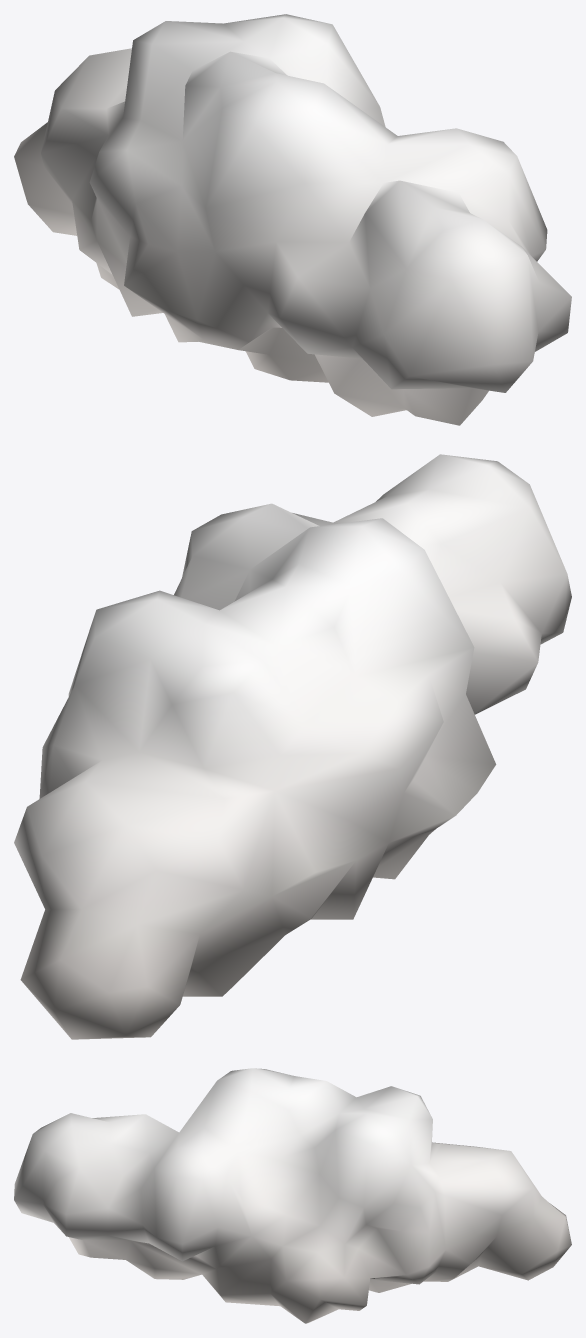
The model's file is Cloud1.fbx.
3 views of the same model, one above another, from view 1: azimuth 30°, elevation 25°; view 2: azimuth 150°, elevation 25°; view 3: azimuth 270°, elevation 25° (orthographic). The views are drawn at different scales.
Parts seen in each view (by area): view 1: Mball.085; view 2: Mball.085; view 3: Mball.085.
Boxes of the visible parts, x1=… form: Mball.085: x1=14, y1=14, x2=571, y2=425; Mball.085: x1=14, y1=454, x2=571, y2=1039; Mball.085: x1=14, y1=1068, x2=571, y2=1323.
Bounding box in the file's own units: 7.55 × 16.62 × 6.95.
